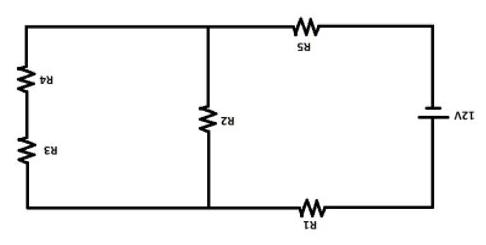resistor: (282, 187, 336, 220), (188, 97, 218, 144), (10, 126, 41, 171), (10, 53, 37, 102), (281, 11, 330, 37)
